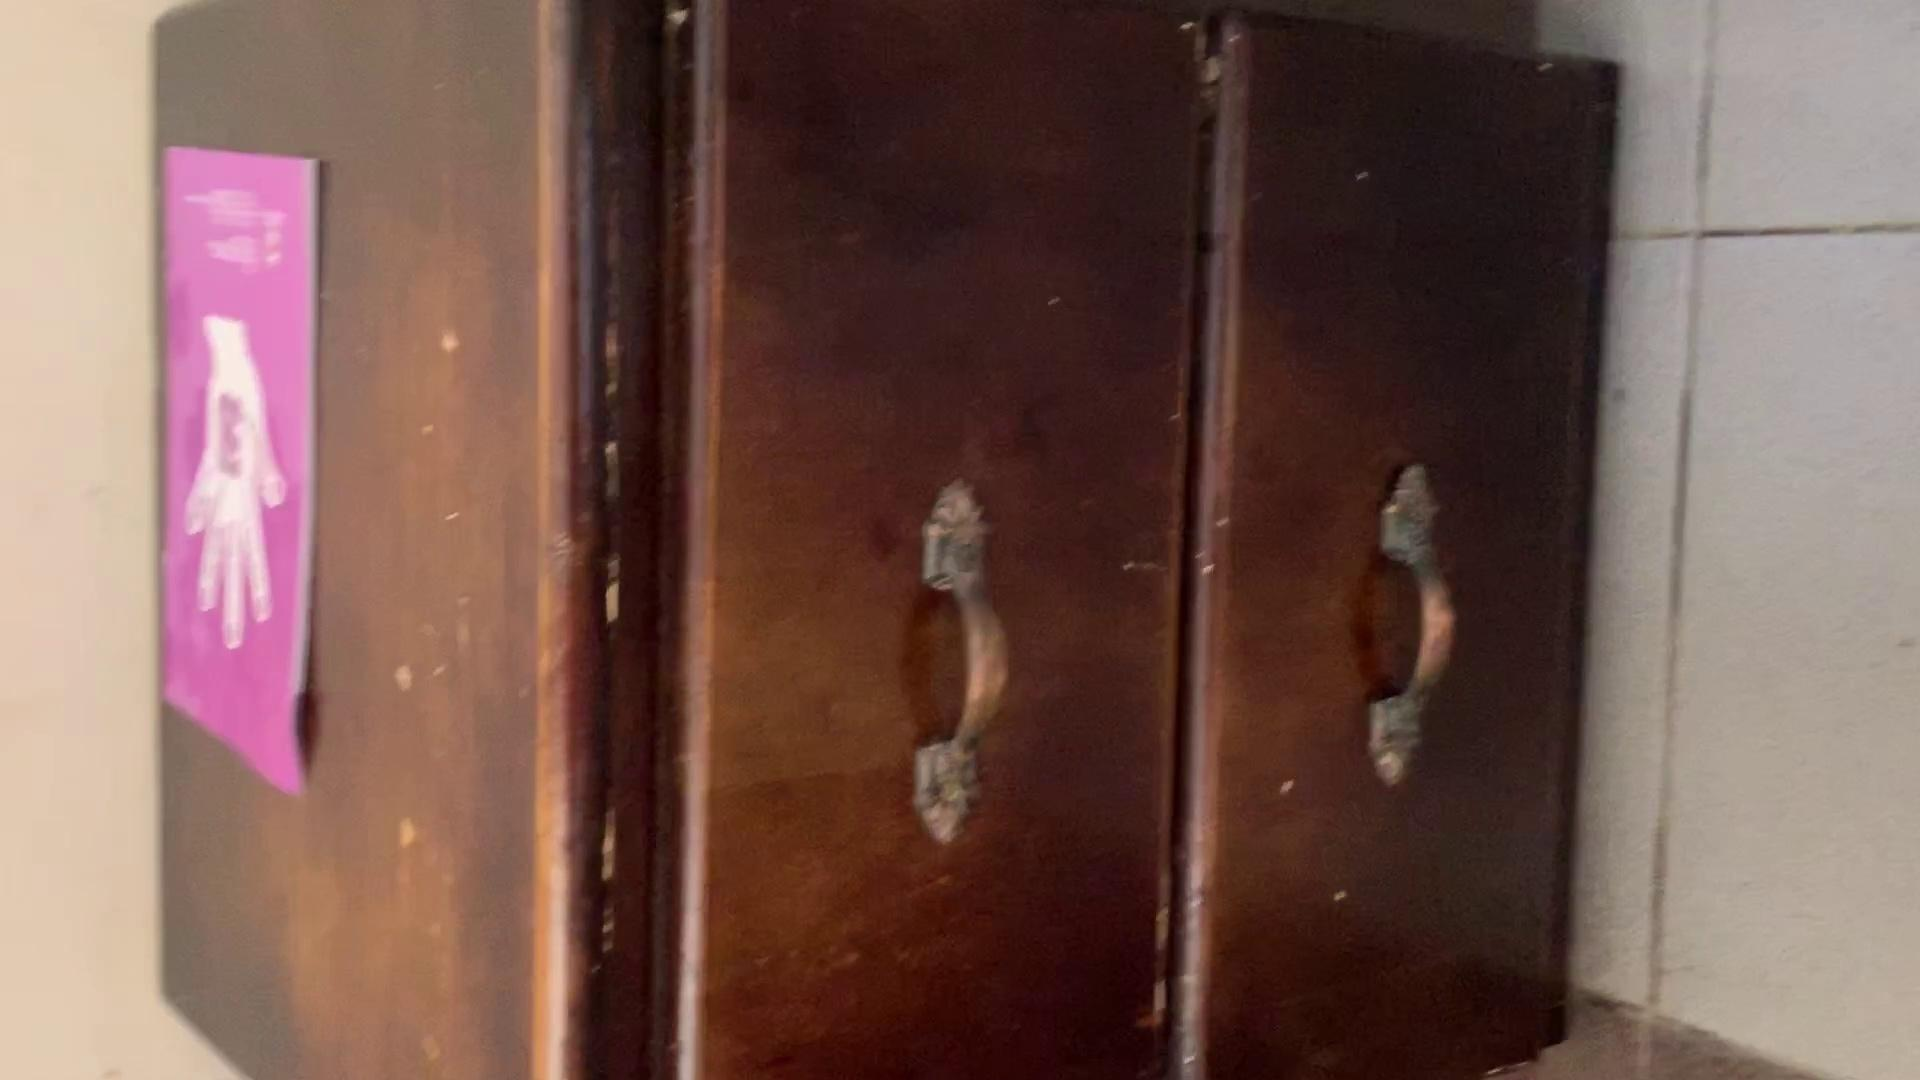cabinet_door: (671, 0, 1192, 1080)
handle: (887, 480, 1023, 853), (1357, 463, 1472, 795)
